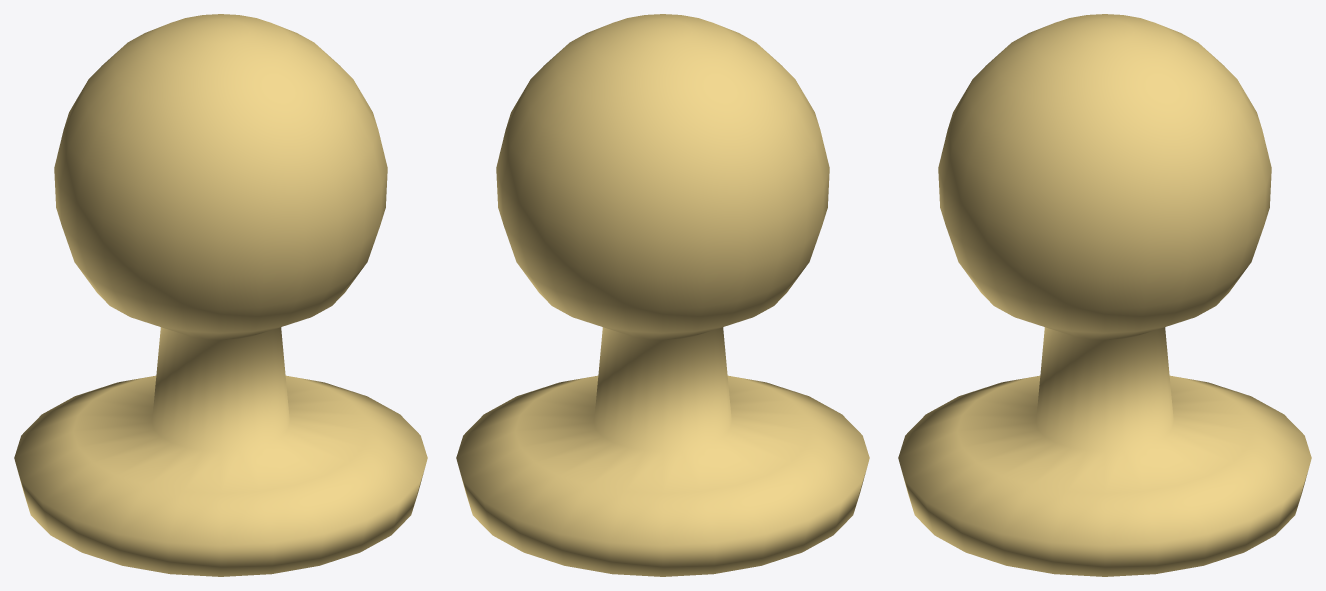
Rendered from brass_knob.glb.
The picture shows the model from 3 angles, left to right: view 1: azimuth 30°, elevation 25°; view 2: azimuth 150°, elevation 25°; view 3: azimuth 270°, elevation 25°; orthographic projection.
Visible parts, largest first — view 1: macaneta; view 2: macaneta; view 3: macaneta.
Part boxes in pixels (<box>): macaneta: <box>14,14,427,576</box>; macaneta: <box>456,14,869,576</box>; macaneta: <box>898,14,1311,576</box>.
Bounding box in the file's own units: 0.084 × 0.104 × 0.084.
